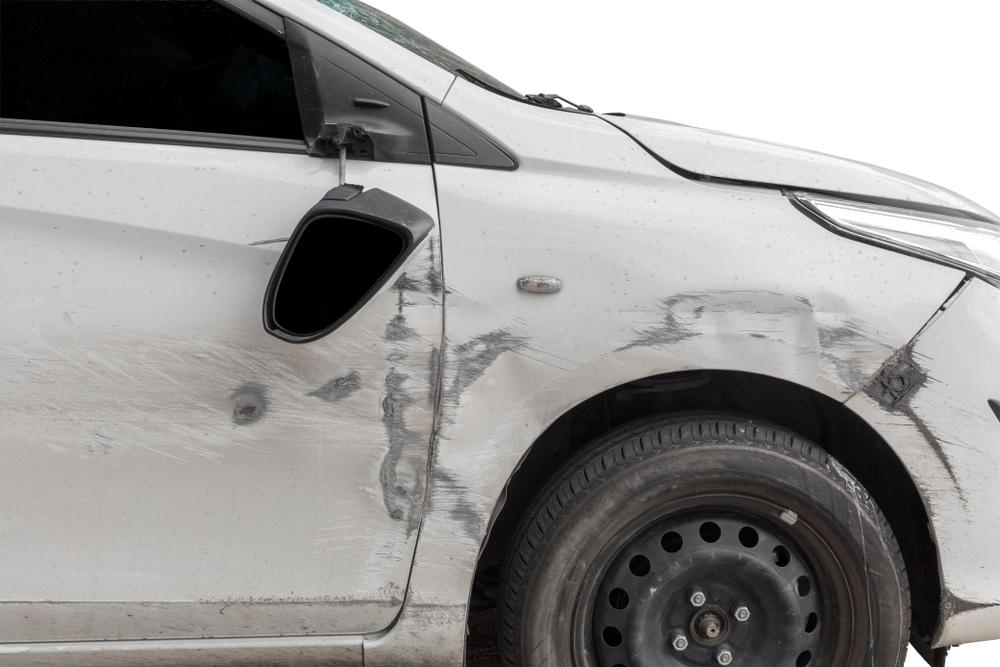dent: (651, 288, 852, 370)
scratch: (0, 239, 448, 600), (417, 292, 531, 570), (861, 335, 1000, 535)
